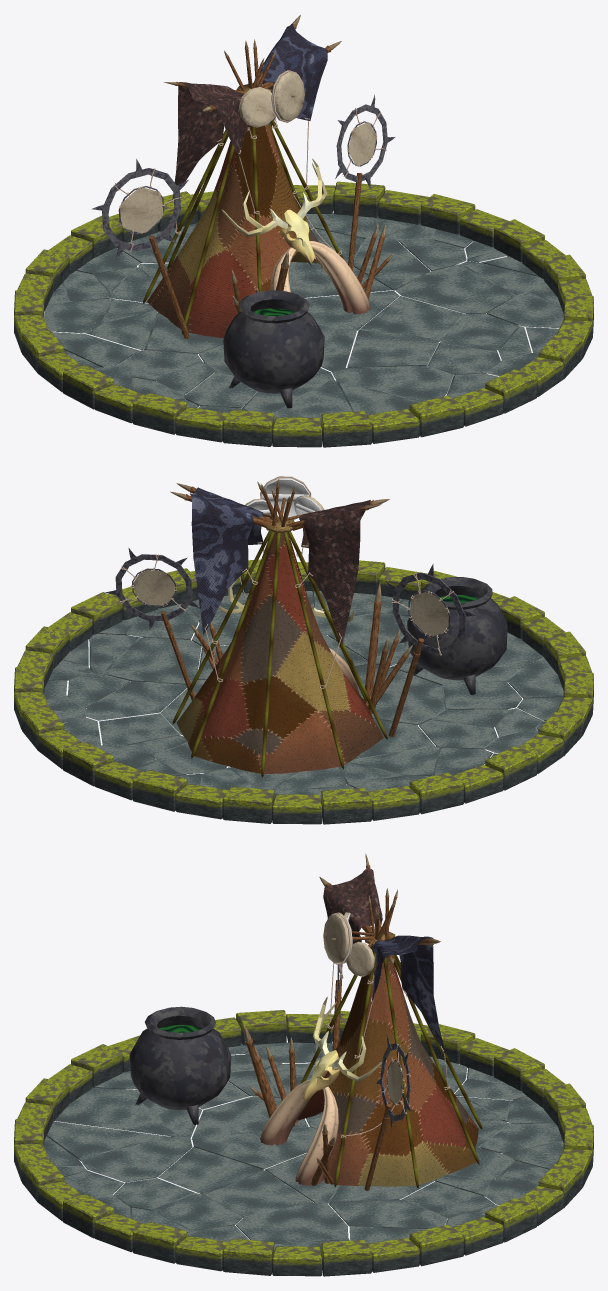
The model's file is Shaman Tent.fbx.
The picture shows the model from 3 angles, top to bottom: view 1: azimuth 30°, elevation 25°; view 2: azimuth 150°, elevation 25°; view 3: azimuth 270°, elevation 25°; orthographic projection.
Parts seen in each view (by area): view 1: Circle.010_cell.029, Cube.002, Tent_Cloth, Plane.002, Plane.007, Circle.089, Plane.006, Circle.028, Tusk, Moose_Skull, Circle.021, Circle.023 (+5 smaller); view 2: Circle.010_cell.029, Cube.002, Tent_Cloth, Plane.006, Plane.002, Plane.007, Circle.089, Circle.028, base.004, base.005, base.006, Circle.021 (+3 smaller); view 3: Circle.010_cell.029, Cube.002, Tent_Cloth, Plane.002, Plane.006, Tusk, Plane.007, Moose_Skull, Circle.028, Circle.021, base.003, base.005 (+3 smaller).
Part boxes in pixels (bbox=[...]): Circle.010_cell.029: bbox=[44, 213, 563, 424]; Cube.002: bbox=[14, 181, 593, 447]; Tent_Cloth: bbox=[147, 124, 328, 338]; Plane.002: bbox=[223, 290, 324, 393]; Plane.007: bbox=[172, 82, 248, 199]; Circle.089: bbox=[102, 168, 189, 338]; Plane.006: bbox=[260, 24, 327, 127]; Circle.028: bbox=[336, 104, 387, 271]; Tusk: bbox=[270, 241, 370, 314]; Moose_Skull: bbox=[221, 158, 327, 265]; Circle.021: bbox=[271, 70, 304, 121]; Circle.023: bbox=[239, 87, 275, 127]; Circle.010_cell.029: bbox=[44, 590, 563, 801]; Cube.002: bbox=[14, 559, 593, 824]; Tent_Cloth: bbox=[176, 532, 383, 773]; Plane.006: bbox=[190, 487, 263, 634]; Plane.002: bbox=[407, 577, 507, 679]; Plane.007: bbox=[299, 500, 370, 644]; Circle.089: bbox=[388, 572, 465, 737]; Circle.028: bbox=[115, 554, 195, 700]; base.004: bbox=[261, 532, 280, 777]; base.005: bbox=[191, 531, 274, 758]; base.006: bbox=[283, 532, 343, 769]; Circle.021: bbox=[260, 476, 310, 519]; Circle.010_cell.029: bbox=[44, 1042, 563, 1253]; Cube.002: bbox=[14, 1010, 593, 1276]; Tent_Cloth: bbox=[298, 945, 478, 1186]; Plane.002: bbox=[129, 1006, 231, 1110]; Plane.006: bbox=[371, 935, 446, 1055]; Tusk: bbox=[260, 1079, 338, 1185]; Plane.007: bbox=[323, 867, 382, 943]; Moose_Skull: bbox=[302, 996, 382, 1102]; Circle.028: bbox=[364, 1043, 410, 1190]; Circle.021: bbox=[323, 912, 352, 963]; base.003: bbox=[334, 951, 376, 1187]; base.005: bbox=[392, 955, 479, 1164].
Size of the model in its own units: 3737 by 1841 by 3737.
16 materials, 15 textured.
